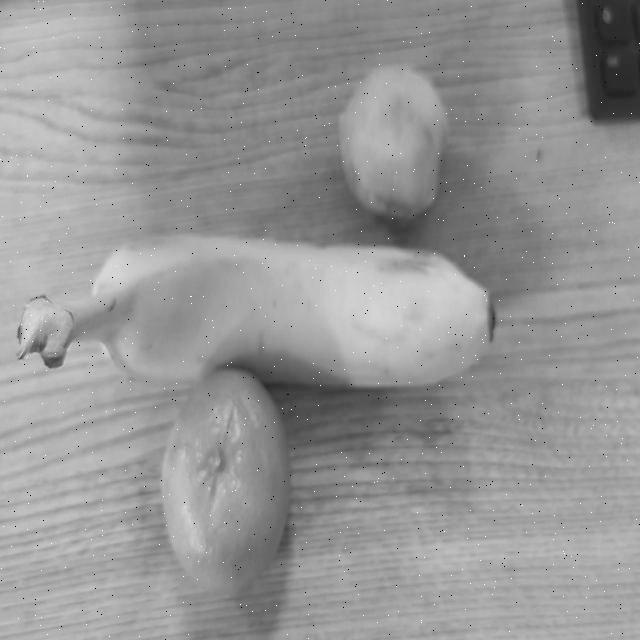Jeruk Mandarin: (164, 372, 293, 598)
Persik: (336, 63, 453, 222)
Pisang: (4, 226, 518, 389)
